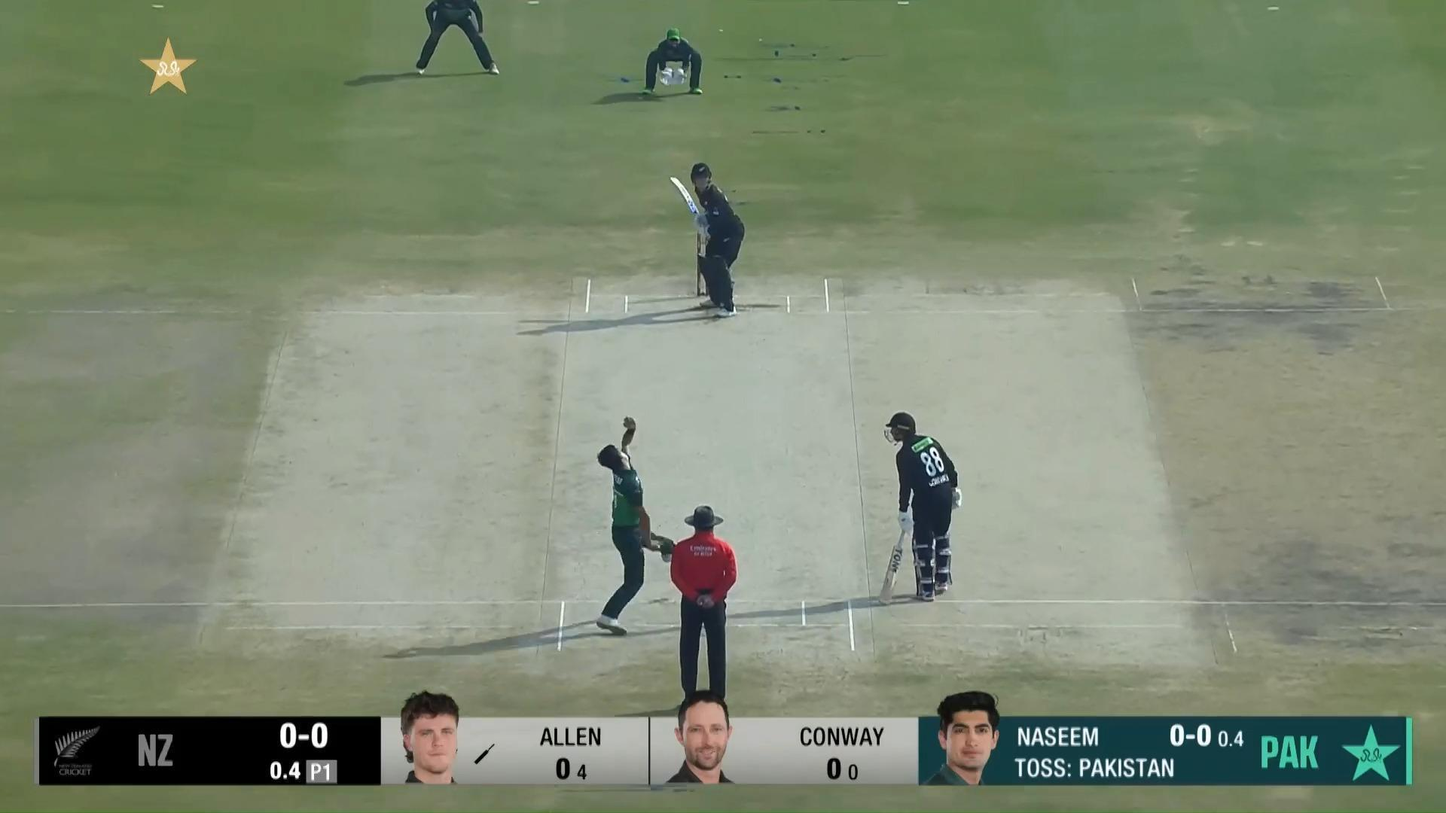BM 1: (670, 161, 746, 320)
BO: (596, 415, 677, 635)
